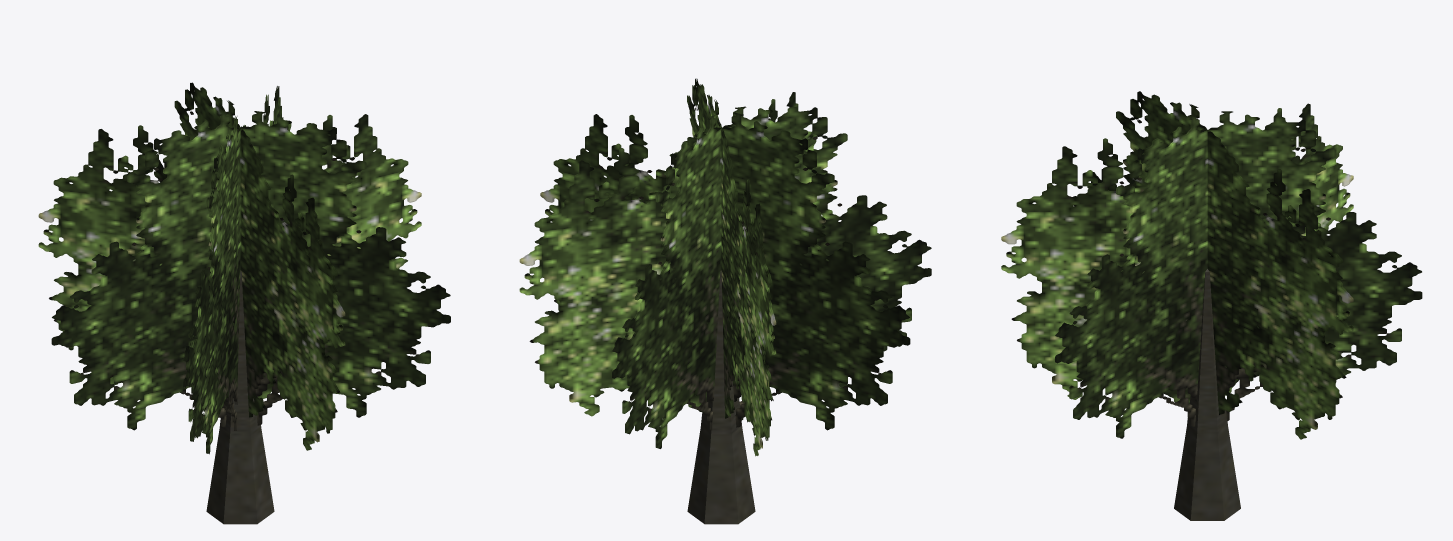
File: tree23.glb
3 renders of one model, left to right at view 1: azimuth 30°, elevation 25°; view 2: azimuth 150°, elevation 25°; view 3: azimuth 270°, elevation 25°, orthographic.
Parts seen in each view (by area): view 1: tree23; view 2: tree23; view 3: tree23.
Part boxes in pixels (box(x1,y1,x2,y2)): tree23: box(38, 82, 450, 524); tree23: box(519, 78, 931, 524); tree23: box(1001, 91, 1422, 520).
Bounding box in the file's own units: 13.2 × 12.5 × 13.2.
1 material, 1 textured.
